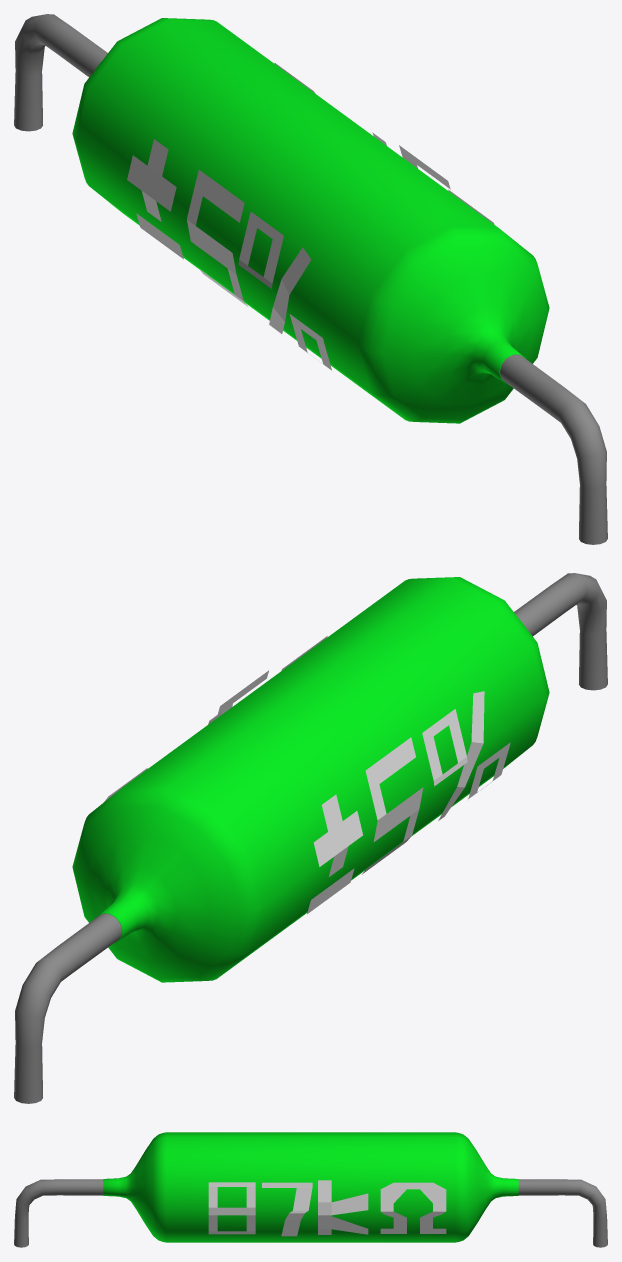
File: resistor_cylinder_87kOhm.fbx
3 views of the same model, one above another, from view 1: azimuth 30°, elevation 25°; view 2: azimuth 150°, elevation 25°; view 3: azimuth 270°, elevation 25° (orthographic). The views are drawn at different scales.
Visible parts, largest first — view 1: rezystor_cylinder 87kOhm; view 2: rezystor_cylinder 87kOhm; view 3: rezystor_cylinder 87kOhm.
Part boxes in pixels (x1,y1,x2,y2): rezystor_cylinder 87kOhm: (14,14,607,544); rezystor_cylinder 87kOhm: (14,573,607,1103); rezystor_cylinder 87kOhm: (14,1132,607,1247).
Bounding box in the file's own units: 215 × 214 × 1074.
